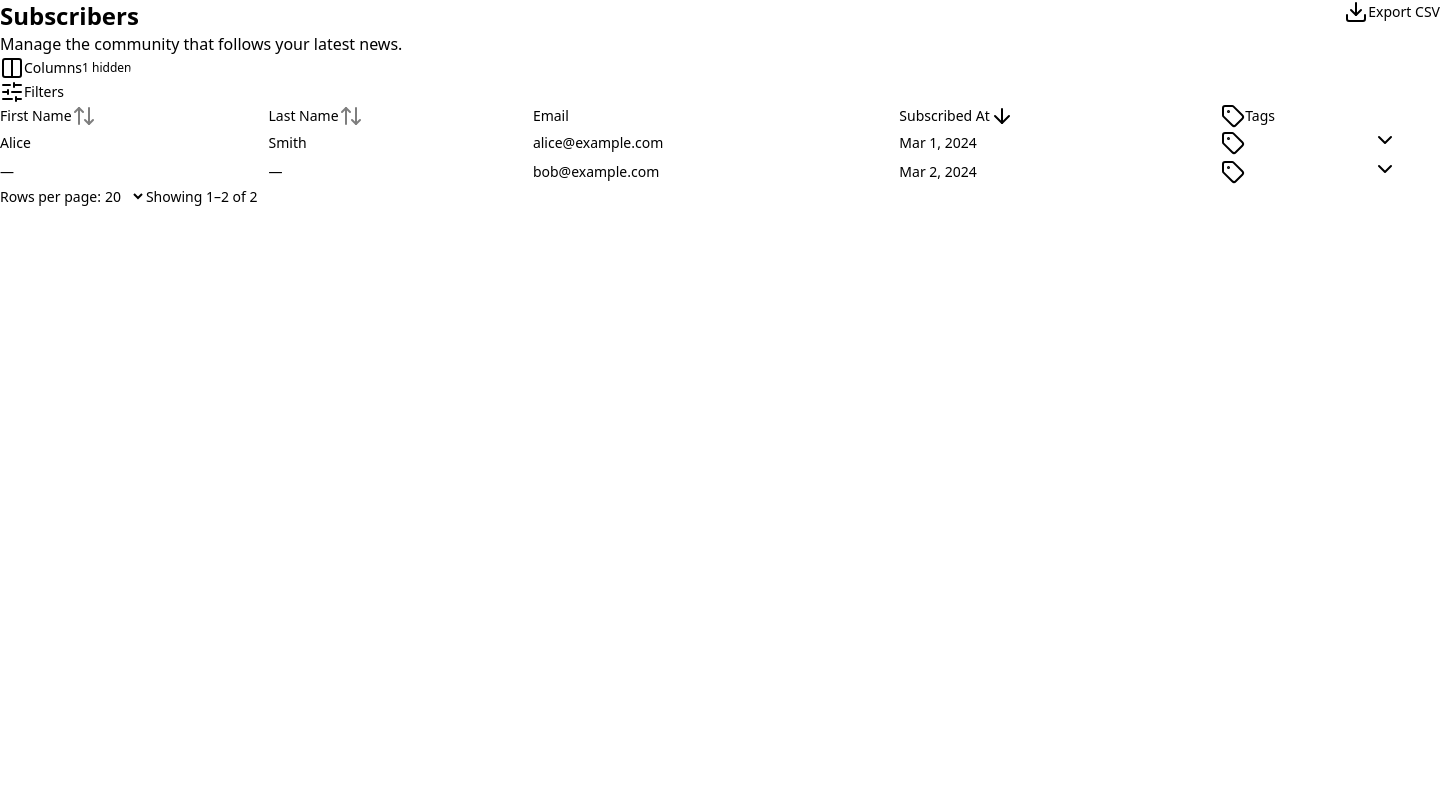
Test: SubscribersTable › filter popover › shows tag checkboxes for each available tag in the filter popover
The width and height of the screenshot is (1440, 810).
Click the button "Filters" at (32, 92), box [0,80,64,104]
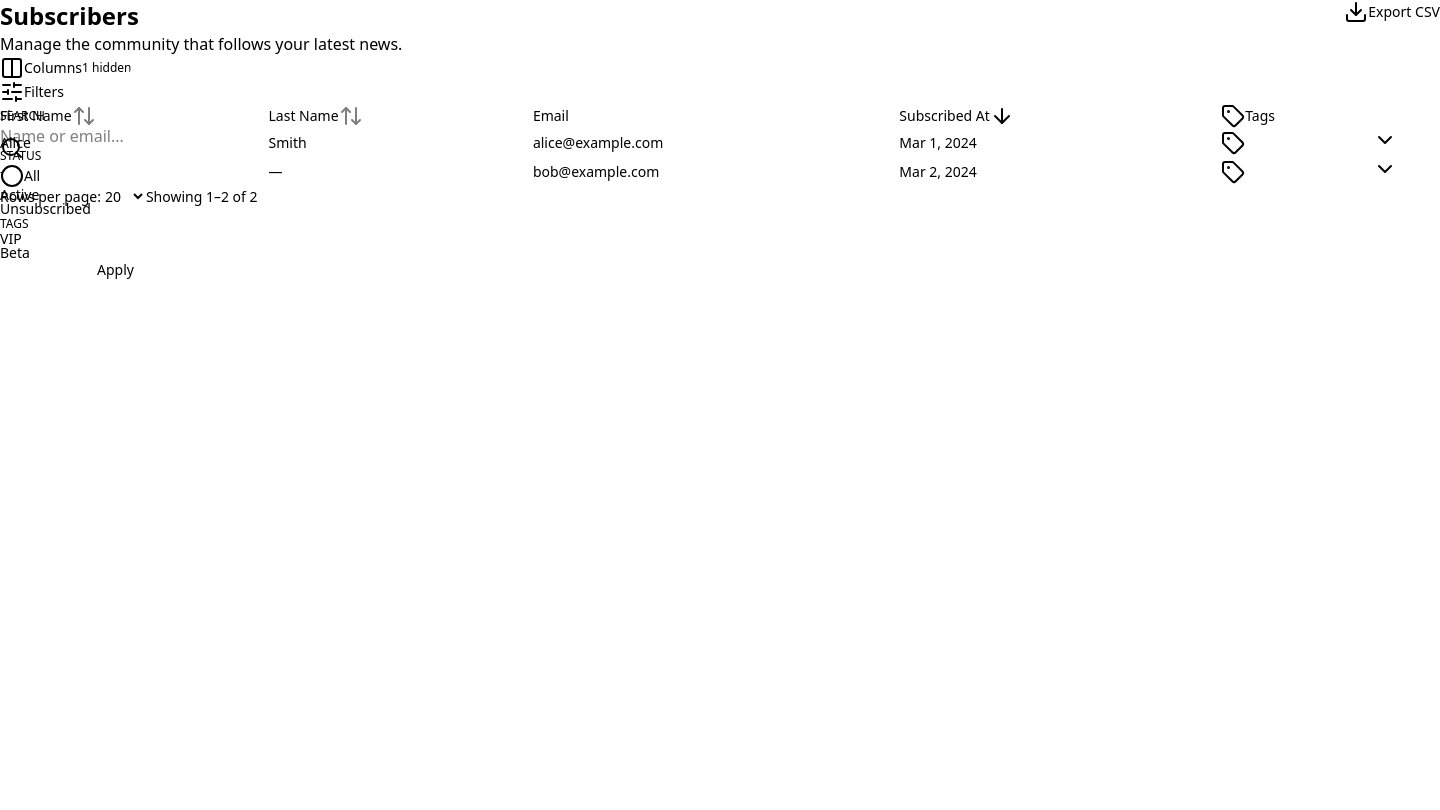
Now the button "VIP" is shown, box [0,232,22,246]
Now the button "Beta" is shown, box [0,246,30,260]
